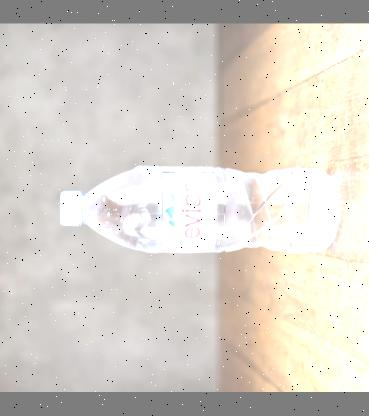Plastic Bottle: (58, 165, 337, 254)
